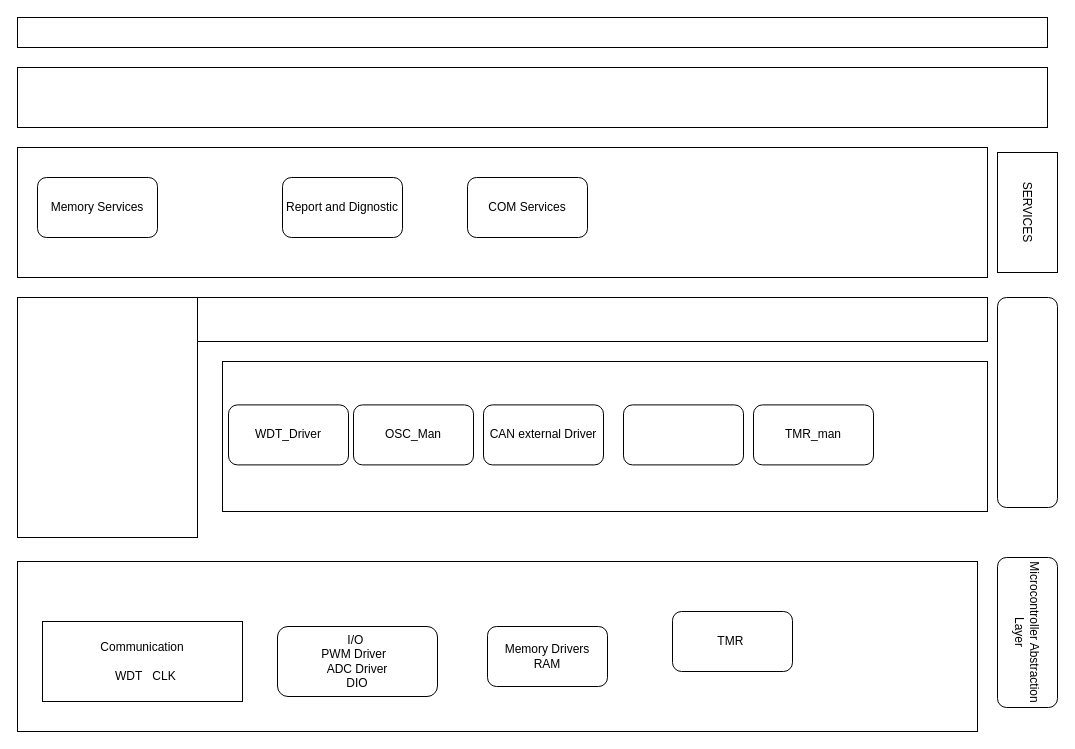
Image size: 1075x749. Some labels were removed from this diagram. The shapes that lost their labels are listed below. From the top down, each one's box as (x1, y1, x2, y2) in pixels, then its label:
(16, 16, 1048, 48): BCM
(16, 66, 1048, 128): RTE
(16, 296, 198, 538): SCHEDULER
(996, 296, 1058, 508): ECU Abstraction Layer
(622, 404, 744, 465): I/O HW abstraction
(16, 560, 978, 732): InfiNeon TC275
